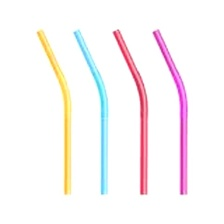drinking_straw: (30, 23, 79, 198), (148, 27, 196, 196), (109, 25, 154, 197), (70, 24, 114, 196)
